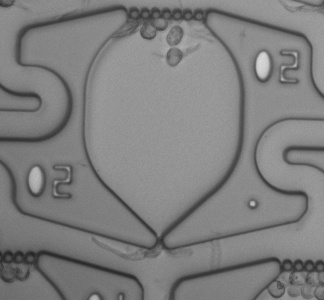AptNum: (246, 44, 308, 89)
Marker: (238, 191, 268, 218)
StNum: (21, 158, 83, 208)
Trap: (139, 238, 183, 283)
